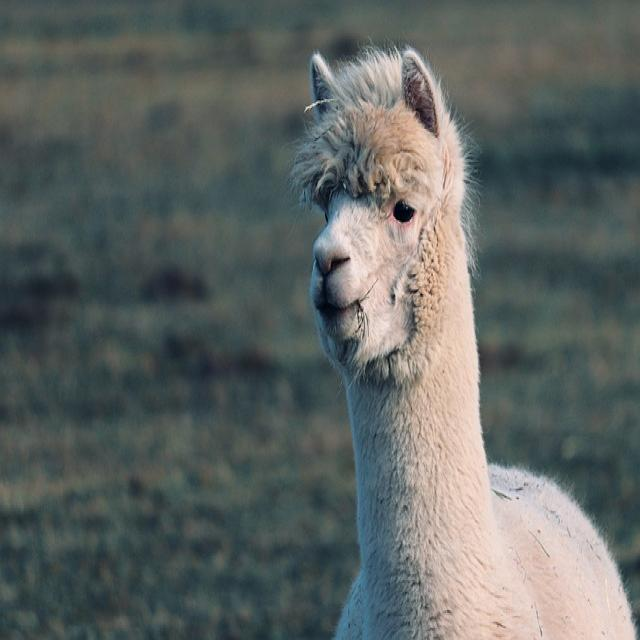Herbivorous: (289, 37, 640, 640)
